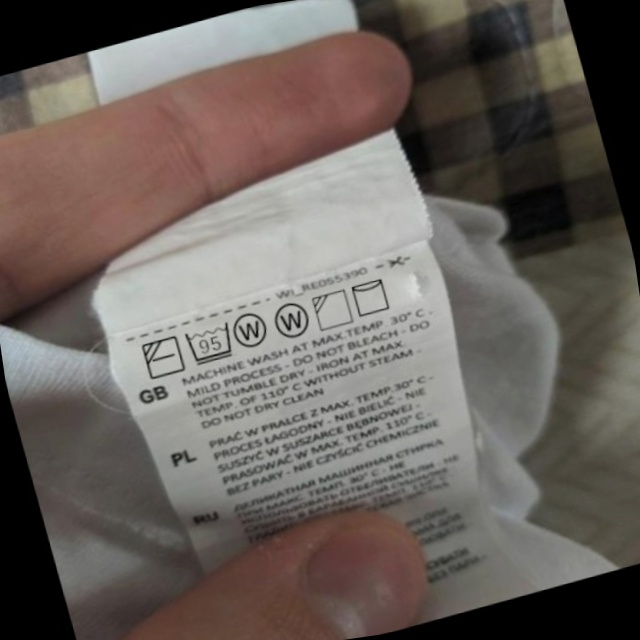95C: (181, 318, 239, 369)
dry_flat_in_shade: (137, 331, 188, 384)
line_dry: (346, 272, 396, 321)
shade_dry: (308, 285, 357, 334)
wet_clean: (269, 296, 316, 345), (228, 304, 274, 353)
